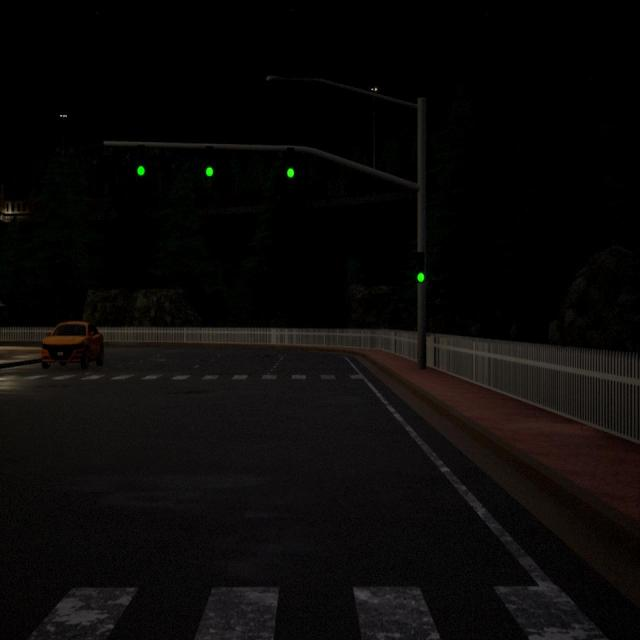Vehicle: (41, 322, 103, 369)
traffic_light: (414, 252, 425, 282), (286, 148, 295, 178), (137, 145, 145, 176), (205, 146, 213, 177)
